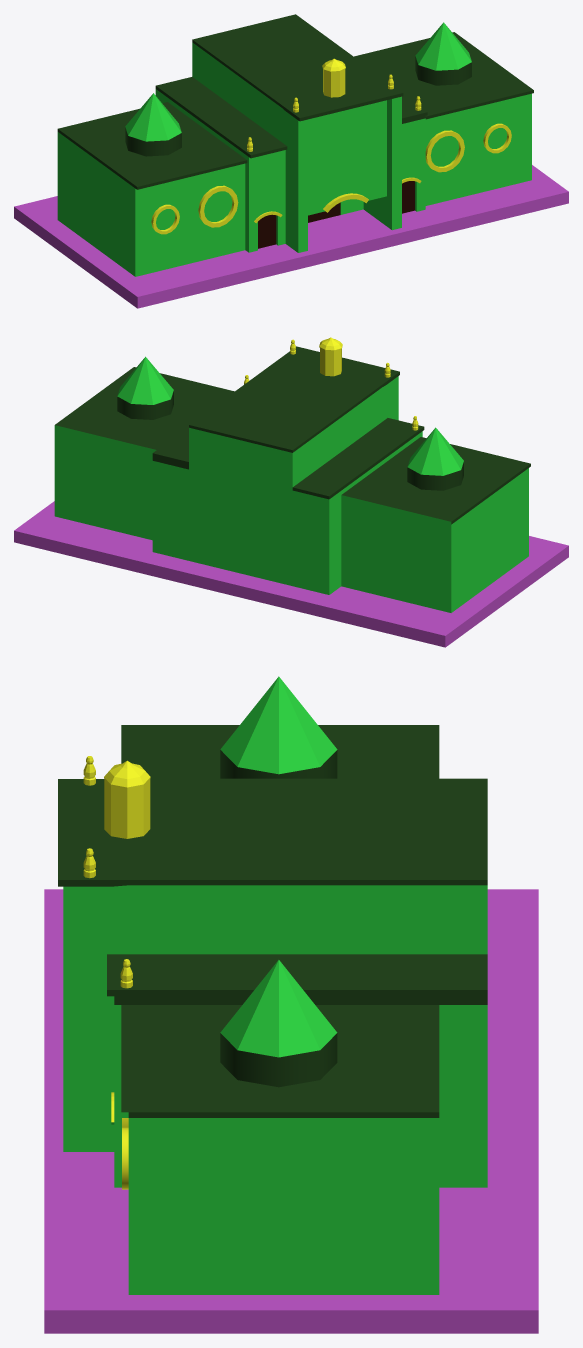
File: school_textured.FBX
3 views of the same model, one above another, from view 1: azimuth 30°, elevation 25°; view 2: azimuth 150°, elevation 25°; view 3: azimuth 270°, elevation 25° (orthographic). The views are drawn at different scales.
Parts seen in each view (by area): view 1: school; view 2: school; view 3: school.
Part boxes in pixels (<box>): school: <box>14,14,568,308</box>; school: <box>14,337,568,647</box>; school: <box>44,676,538,1333</box>.
Bounding box in the file's own units: 3727 × 1502 × 1848.
